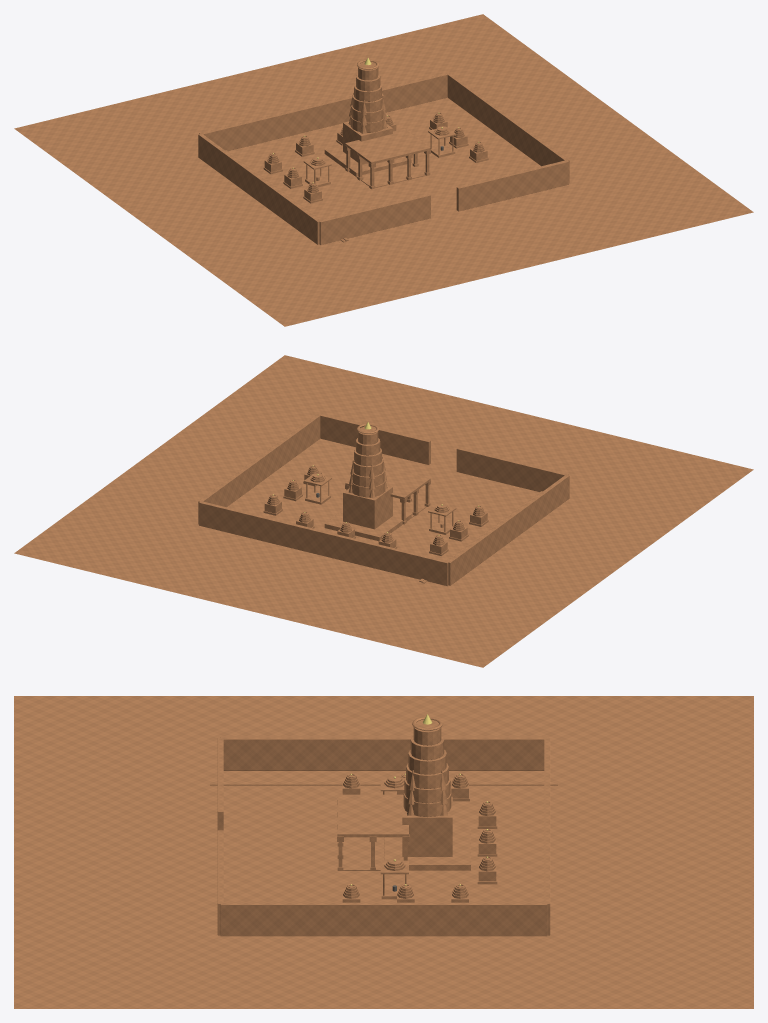
Rendered from alampur_jogulamba_kshetra_full.glb.
The picture shows the model from 3 angles, top to bottom: view 1: azimuth 30°, elevation 25°; view 2: azimuth 150°, elevation 25°; view 3: azimuth 270°, elevation 25°; orthographic projection. The views are drawn at different scales.
Visible parts, largest first — view 1: Ground_Main, Alampur_Prakara_N, Alampur_Prakara_W, Mandapa, Alampur_Prakara_E, Alampur_Prakara_S_R, Alampur_Prakara_S_L, Chalukyan_Jagati, Garbhagriha, Bhairava_Shrine; view 2: Ground_Main, Alampur_Prakara_N, Alampur_Prakara_W, Alampur_Prakara_E, Alampur_Prakara_S_L, Alampur_Prakara_S_R, Mandapa, Garbhagriha, Chalukyan_Jagati, Bhairava_Shrine, Ganesha_Shrine; view 3: Ground_Main, Alampur_Prakara_E, Alampur_Prakara_W, Mandapa, Garbhagriha, Chalukyan_Jagati, Alampur_Prakara_N, Bhairava_Shrine, Tungabhadra_Ghat_Step_1, Alampur_Prakara_S_L, Alampur_Prakara_S_R, Chalukyan_Rekhanagara_Shikhara_Tier_4 (+5 smaller).
Part boxes in pixels (x1=…): Ground_Main: x1=14, y1=14, x2=753, y2=326; Alampur_Prakara_N: x1=199, y1=72, x2=447, y2=150; Alampur_Prakara_W: x1=198, y1=134, x2=319, y2=244; Mandapa: x1=345, y1=129, x2=430, y2=189; Alampur_Prakara_E: x1=447, y1=73, x2=569, y2=183; Alampur_Prakara_S_R: x1=456, y1=160, x2=568, y2=211; Alampur_Prakara_S_L: x1=319, y1=194, x2=430, y2=244; Chalukyan_Jagati: x1=324, y1=145, x2=411, y2=176; Garbhagriha: x1=343, y1=121, x2=392, y2=164; Bhairava_Shrine: x1=428, y1=126, x2=456, y2=157; Ground_Main: x1=14, y1=355, x2=753, y2=667; Alampur_Prakara_N: x1=199, y1=501, x2=448, y2=585; Alampur_Prakara_W: x1=447, y1=475, x2=569, y2=585; Alampur_Prakara_E: x1=198, y1=414, x2=320, y2=524; Alampur_Prakara_S_L: x1=456, y1=447, x2=568, y2=491; Alampur_Prakara_S_R: x1=320, y1=413, x2=430, y2=464; Mandapa: x1=345, y1=467, x2=430, y2=524; Garbhagriha: x1=343, y1=485, x2=392, y2=529; Chalukyan_Jagati: x1=324, y1=509, x2=411, y2=541; Bhairava_Shrine: x1=303, y1=473, x2=331, y2=504; Ganesha_Shrine: x1=428, y1=503, x2=456, y2=534; Ground_Main: x1=14, y1=696, x2=753, y2=1008; Alampur_Prakara_E: x1=220, y1=902, x2=547, y2=936; Alampur_Prakara_W: x1=220, y1=737, x2=547, y2=770; Mandapa: x1=337, y1=794, x2=409, y2=870; Garbhagriha: x1=402, y1=796, x2=452, y2=856; Chalukyan_Jagati: x1=384, y1=828, x2=470, y2=870; Alampur_Prakara_N: x1=544, y1=738, x2=550, y2=935; Bhairava_Shrine: x1=380, y1=858, x2=408, y2=899; Tungabhadra_Ghat_Step_1: x1=210, y1=783, x2=557, y2=785; Alampur_Prakara_S_L: x1=217, y1=738, x2=223, y2=830; Alampur_Prakara_S_R: x1=217, y1=830, x2=223, y2=935; Chalukyan_Rekhanagara_Shikhara_Tier_4: x1=408, y1=750, x2=446, y2=774.
Bounding box in the file's own units: 68 × 14.24 × 68.
13 materials, 1 textured.
